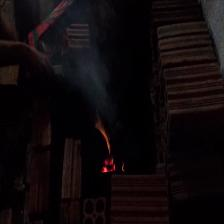fire: (95, 119, 127, 174)
smoke: (77, 48, 118, 115)
